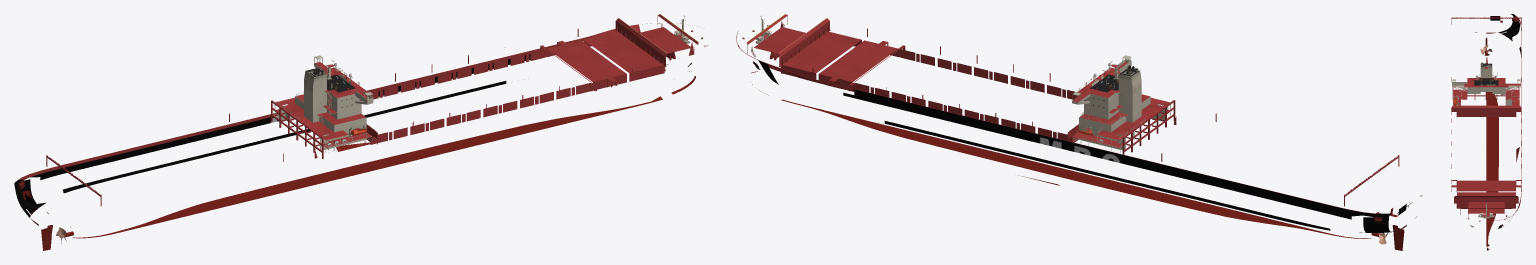
File: ship.glb
The picture shows the model from 3 angles, left to right: view 1: azimuth 30°, elevation 25°; view 2: azimuth 150°, elevation 25°; view 3: azimuth 270°, elevation 25°; orthographic projection. The views are drawn at different scales.
Bounding box in the file's own units: 99.41 × 17.38 × 13.99.
Materials: 2 (2 with a texture image).
